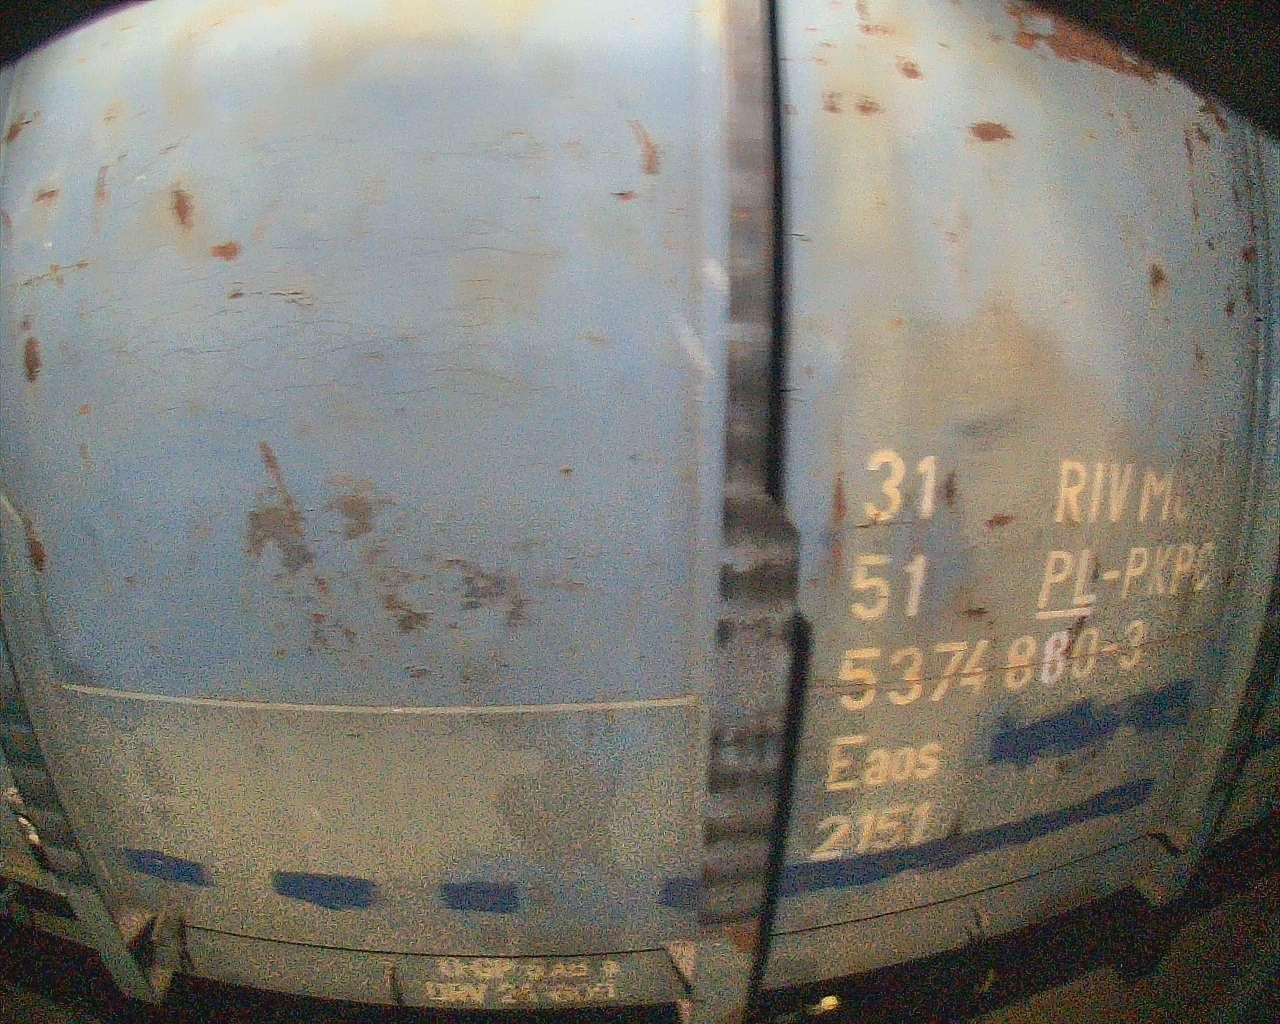UIC: (815, 447, 1218, 864)
